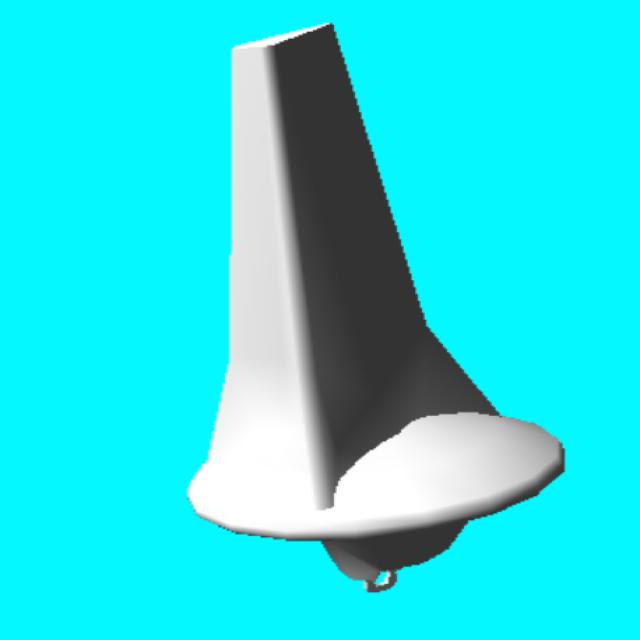WhiteBuoy: (188, 25, 562, 590)
